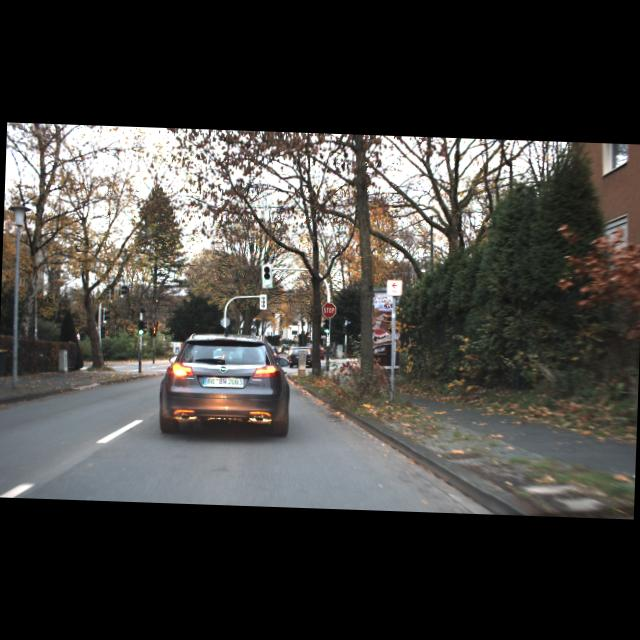other: (321, 302, 336, 317)
